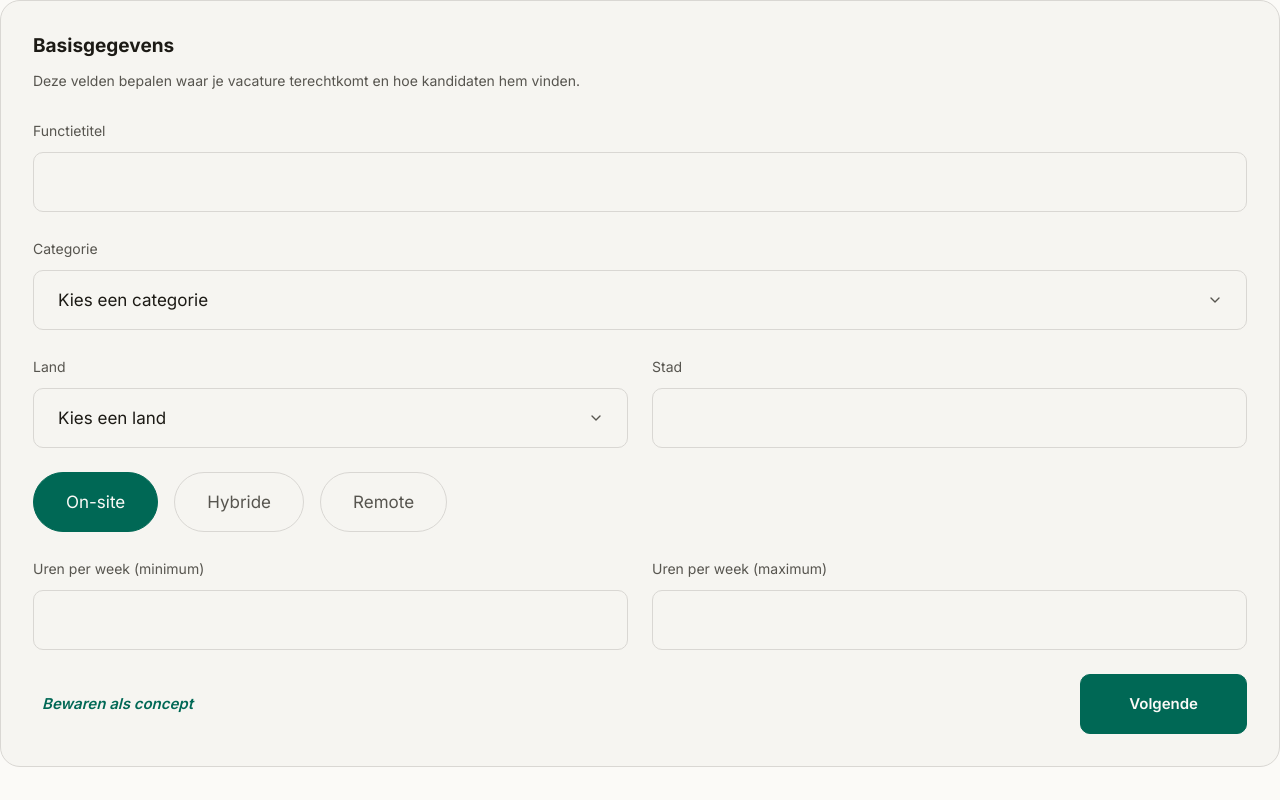
Test: VacancyCoreForm › shows required-field validation errors and does not submit when the form is empty
Click the button "Volgende" at (1164, 704), box [1080,674,1247,734]
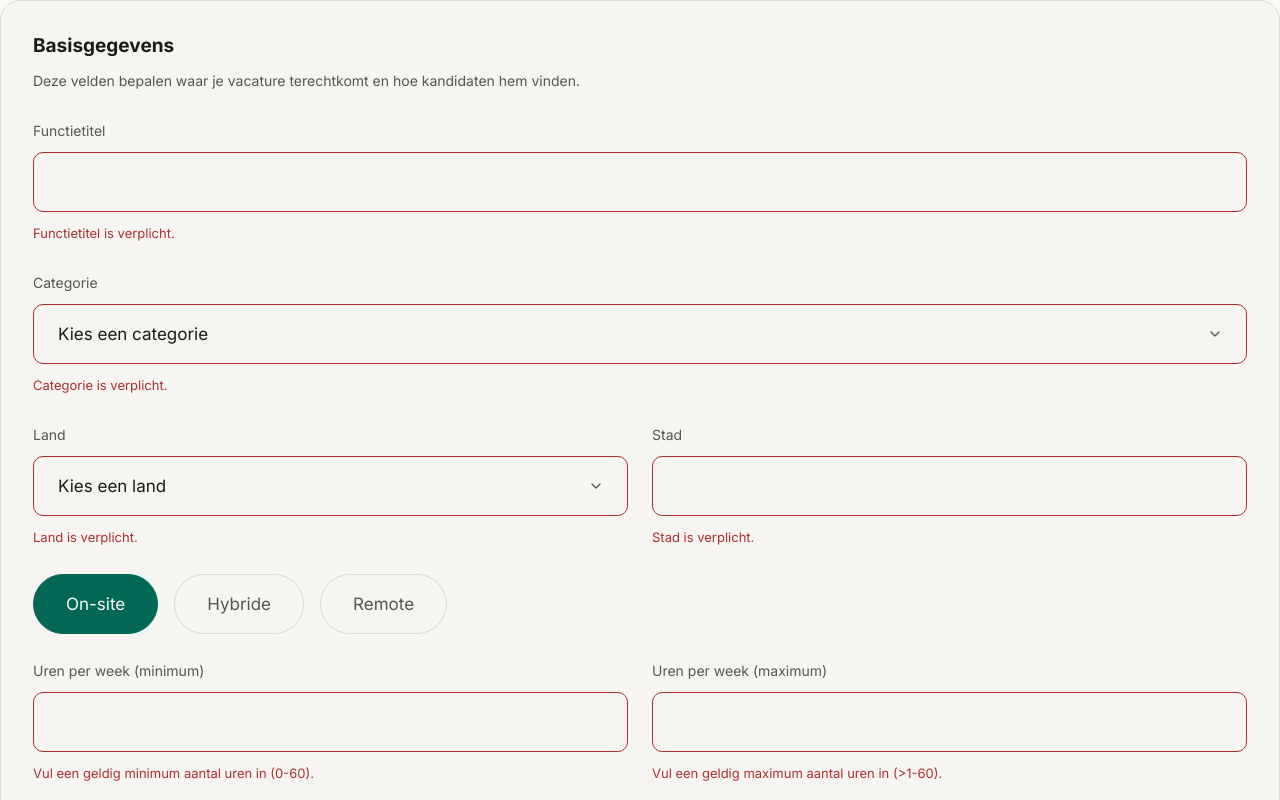
Now the text "Functietitel is verplicht." is shown, box [33,225,175,241]
